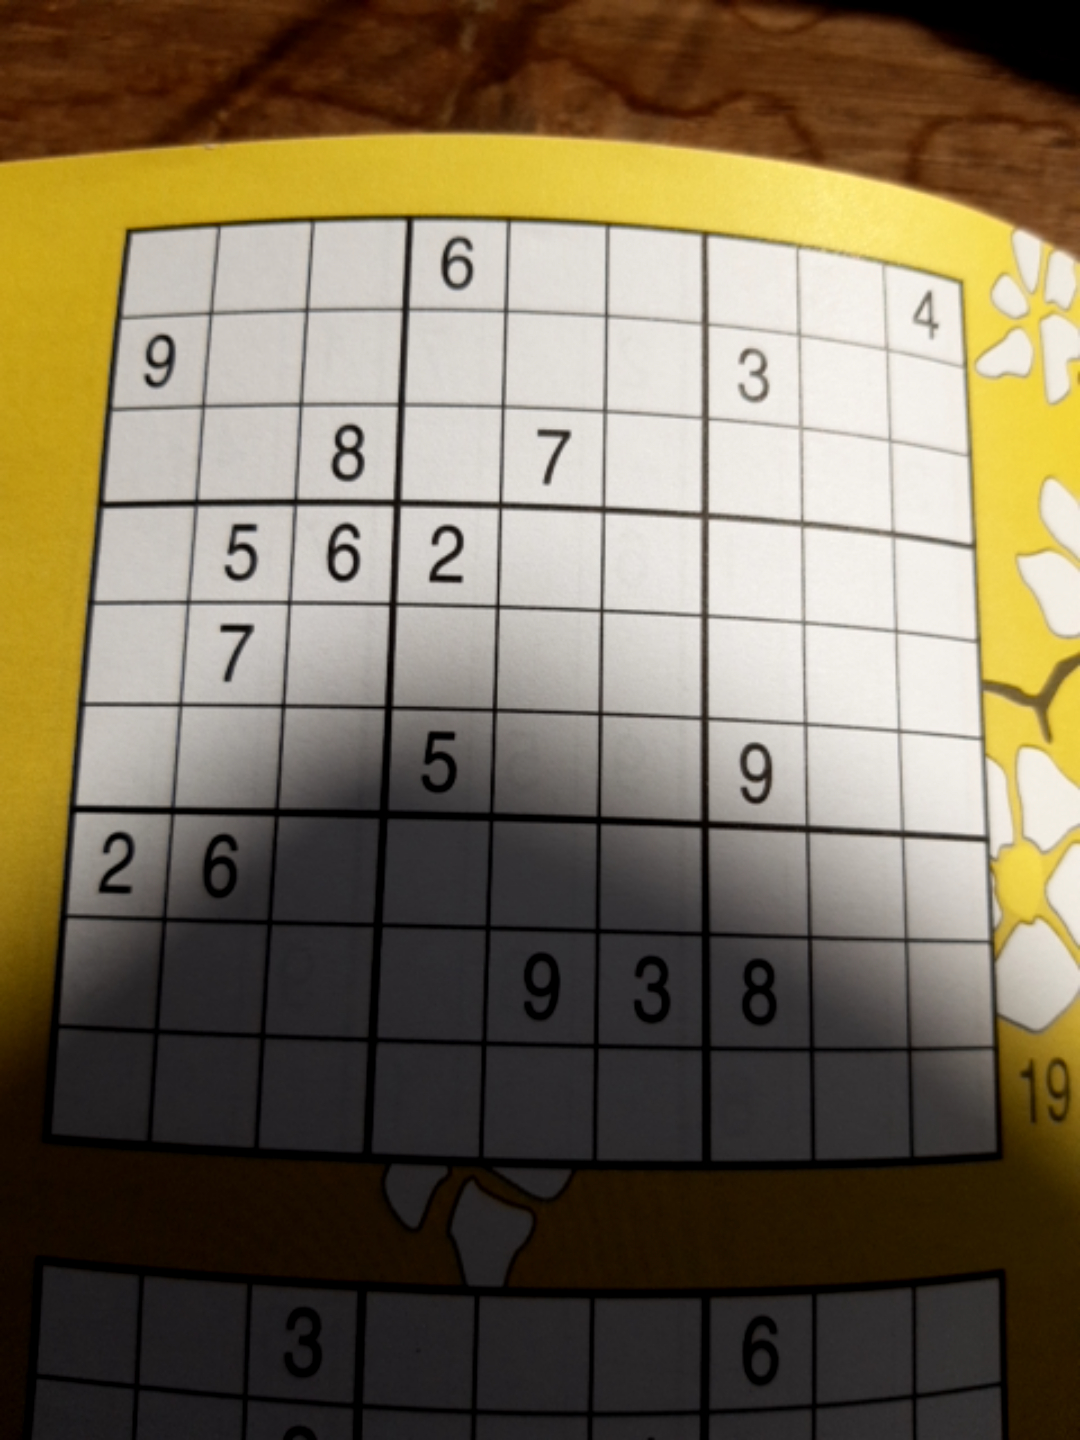sudoku: (45, 214, 1007, 1174)
